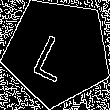L_NE: (33, 22, 82, 81)
